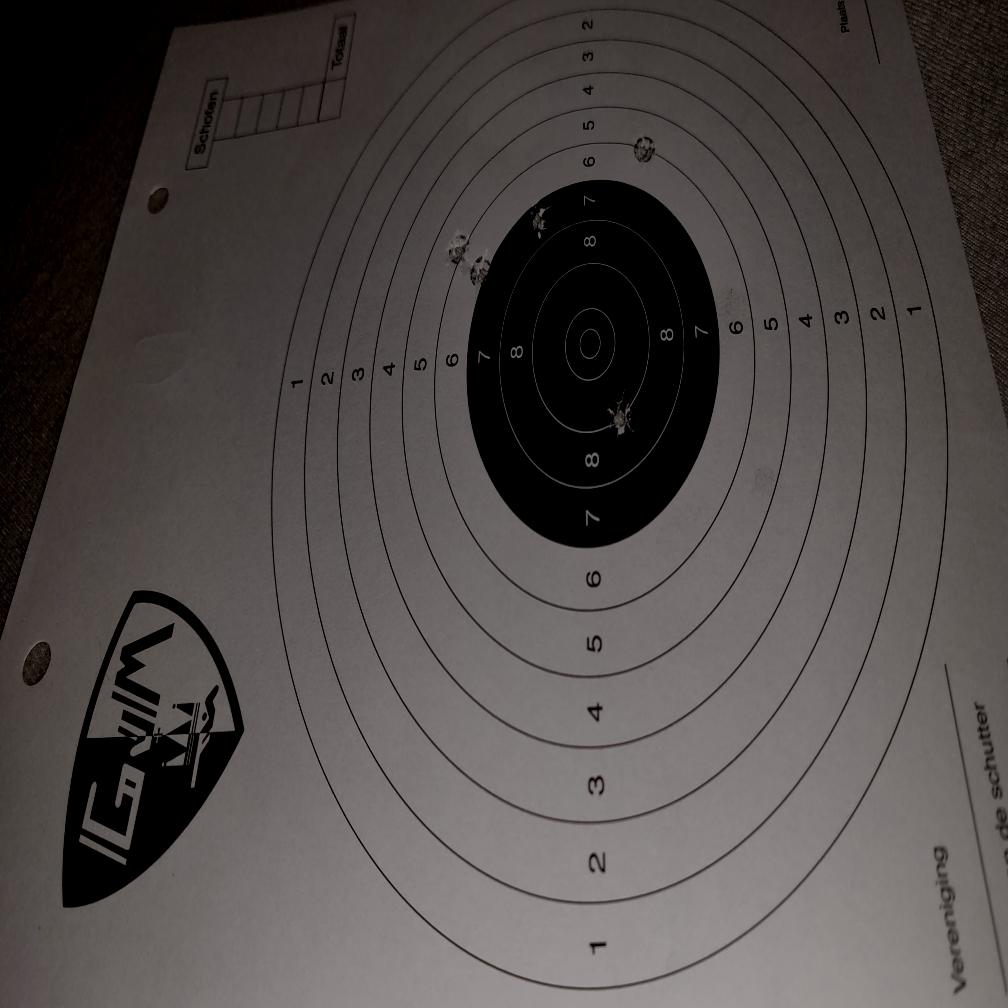6: (448, 227, 472, 272), (632, 123, 657, 163)
7: (526, 193, 550, 237), (470, 256, 495, 288)
9: (607, 389, 636, 441)
Target: (272, 0, 958, 995)
black_contour: (466, 177, 721, 548)
